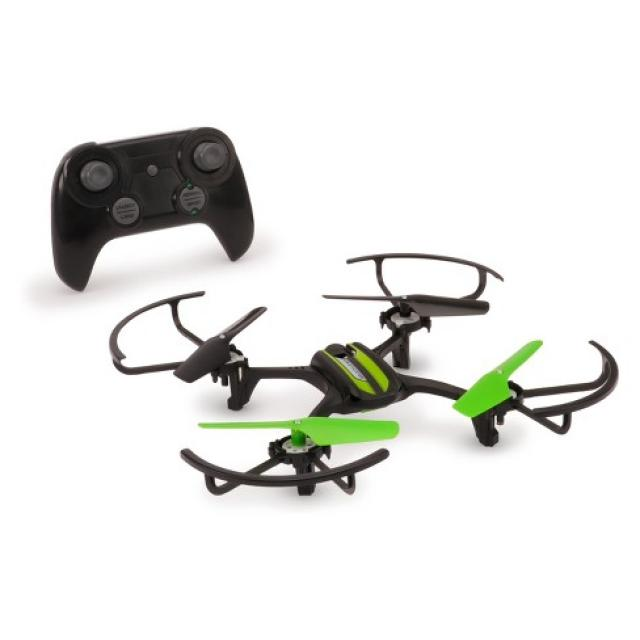drone: (97, 219, 626, 497)
